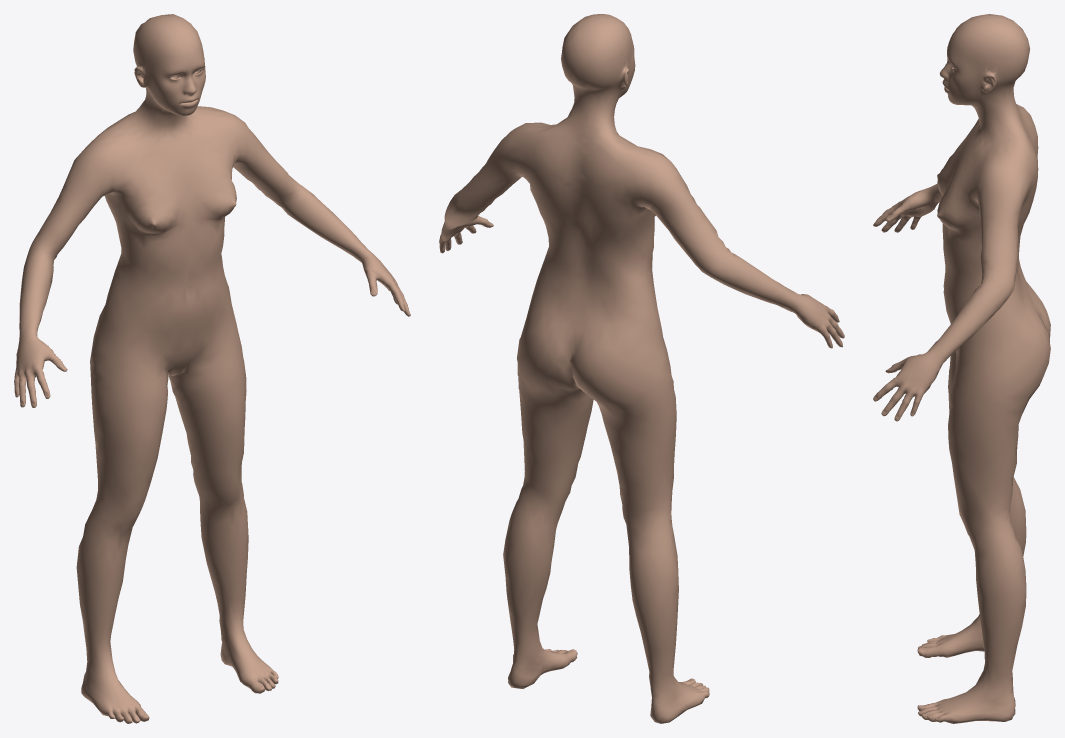
The model's file is human_female_base.glb.
3 views of the same model, side by side, from view 1: azimuth 30°, elevation 25°; view 2: azimuth 150°, elevation 25°; view 3: azimuth 270°, elevation 25° (orthographic). The views are drawn at different scales.
Visible parts, largest first — view 1: human_female_base; view 2: human_female_base; view 3: human_female_base.
Part boxes in pixels (x1,y1,x2,y2): human_female_base: (14,14,410,723); human_female_base: (439,14,844,723); human_female_base: (873,14,1050,723).
Bounding box in the file's own units: 1.01 × 1.66 × 0.4006.
